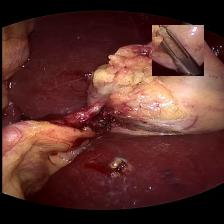Grasper: (151, 25, 203, 76)
